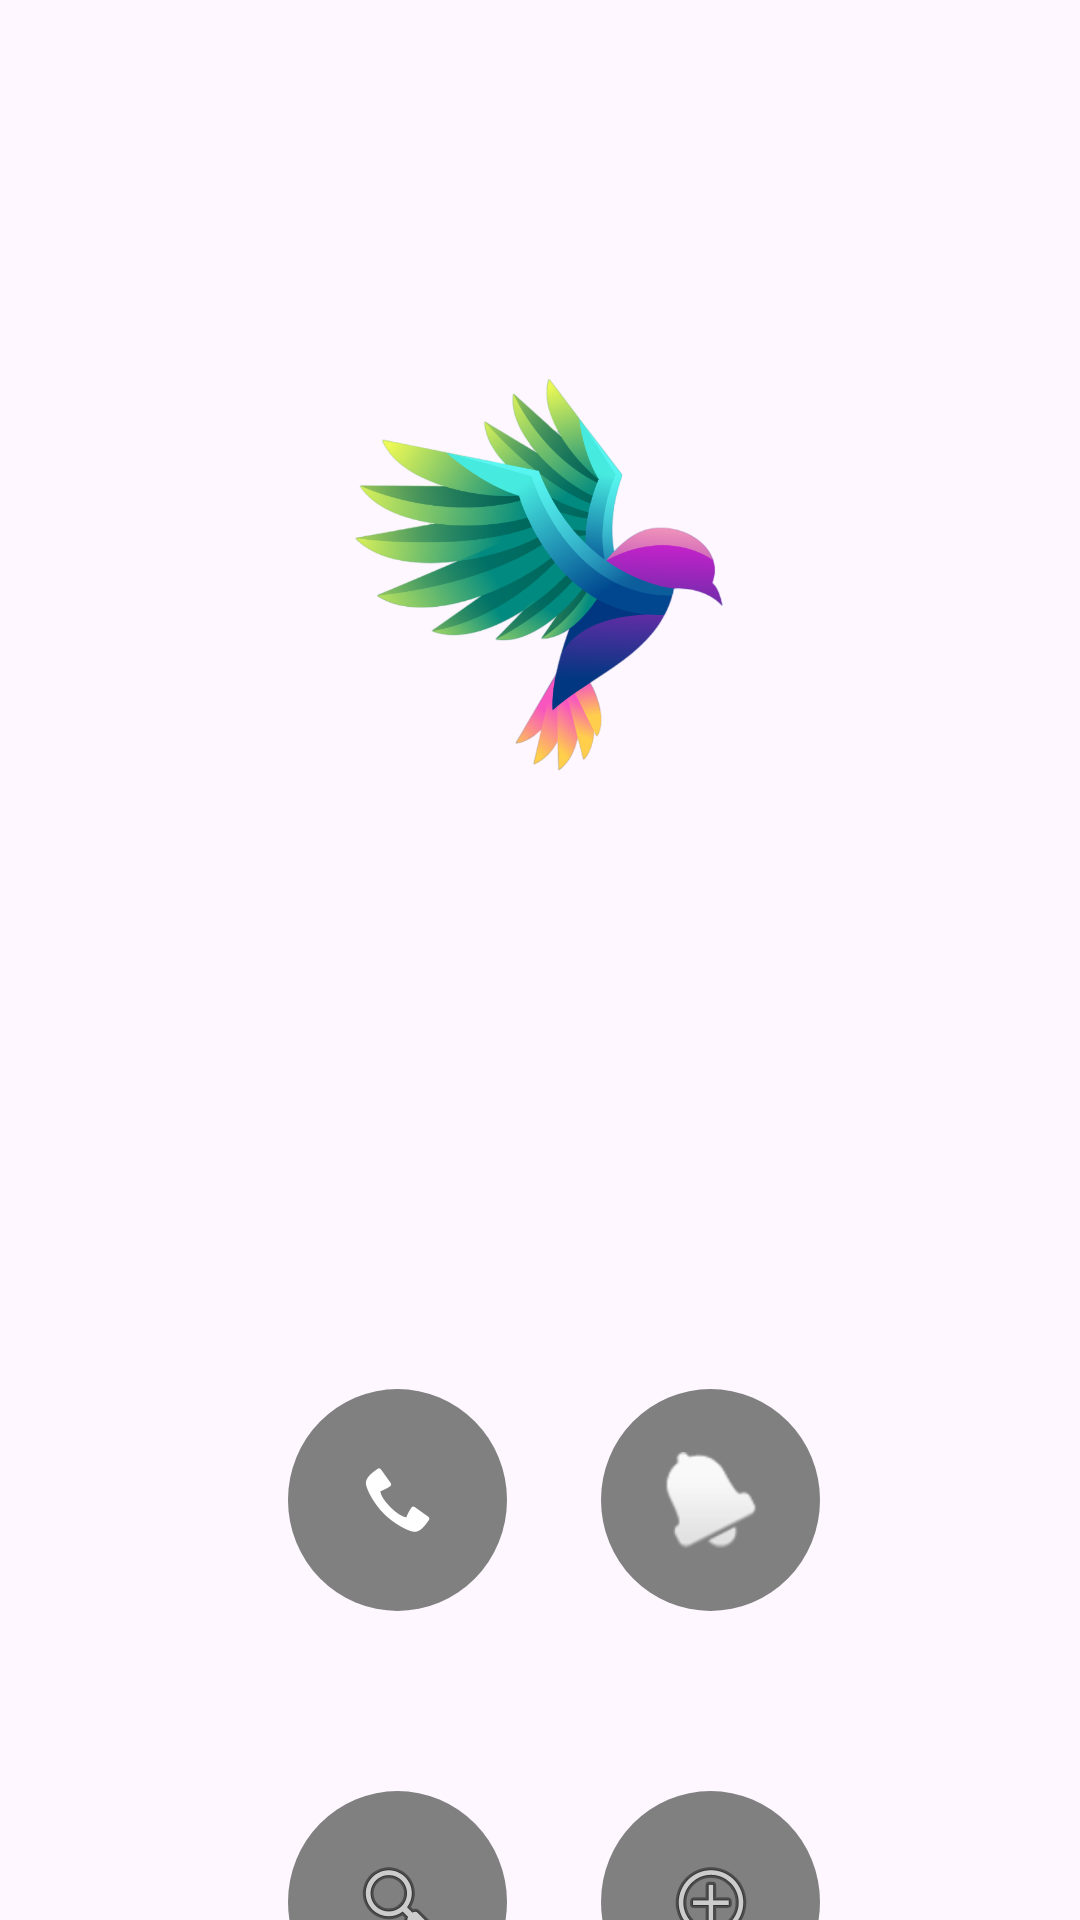

Screen size 1080*1920. Icon name, then its center in pixels as (x=x, y=y):
phone call: (x=397, y=1500)
popup reminder: (x=710, y=1500)
